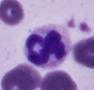N: (23, 25, 70, 68)
